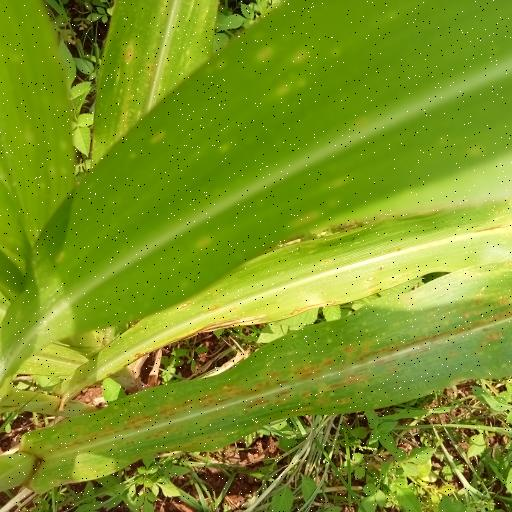Corn_Brown_Spots: (27, 0, 512, 480)
